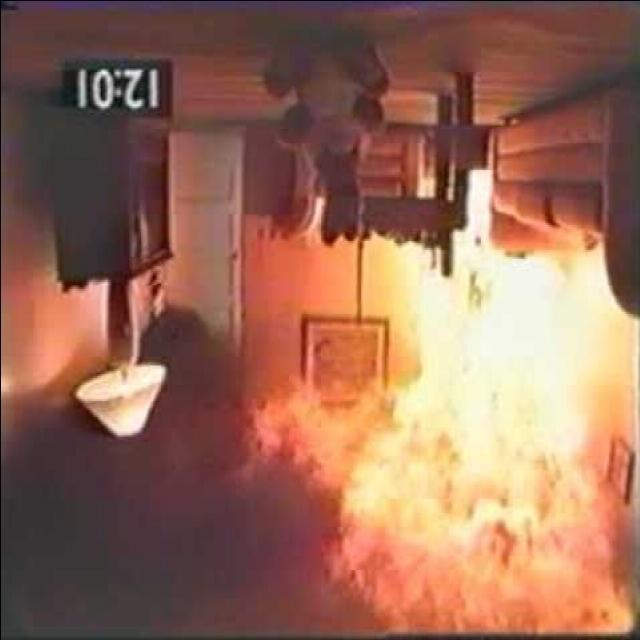Fire: (336, 172, 634, 630)
